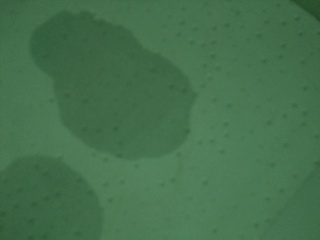Water_detected: (57, 30, 175, 148), (15, 168, 87, 236)
